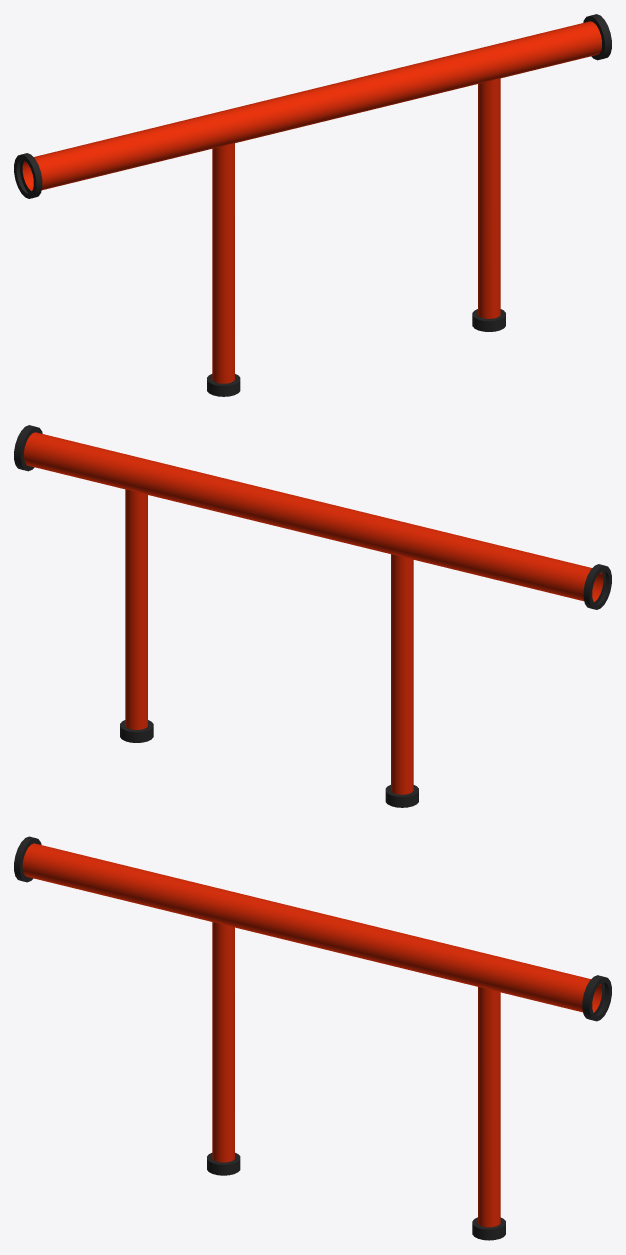
The model's file is S_assete_barrier_1.fbx.
3 renders of one model, top to bottom at view 1: azimuth 30°, elevation 25°; view 2: azimuth 150°, elevation 25°; view 3: azimuth 330°, elevation 25°, orthographic.
Visible parts, largest first — view 1: Cylinder021; view 2: Cylinder021; view 3: Cylinder021.
Part boxes in pixels (x1,y1,x2,y2): Cylinder021: [14, 14, 611, 396]; Cylinder021: [14, 425, 611, 807]; Cylinder021: [14, 836, 611, 1240].
Size of the model in its own units: 230 by 108 by 15.55.
